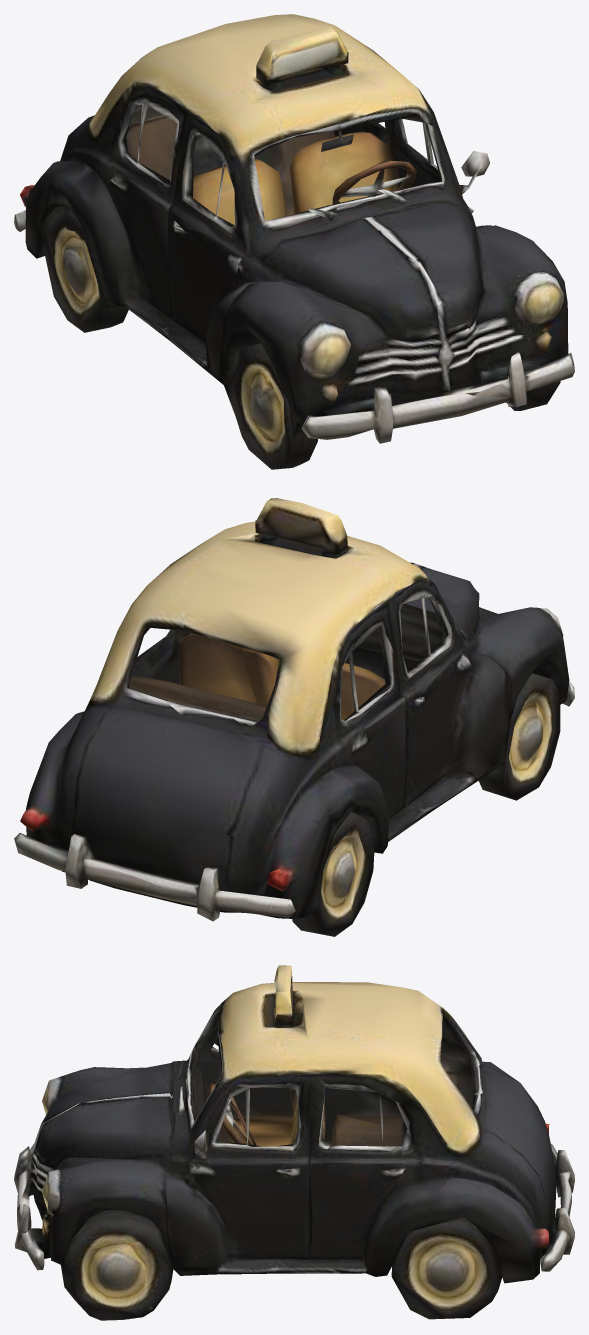
The picture shows the model from 3 angles, top to bottom: view 1: azimuth 30°, elevation 25°; view 2: azimuth 150°, elevation 25°; view 3: azimuth 270°, elevation 25°; orthographic projection. The views are drawn at different scales.
Visible parts, largest first — view 1: tripo_node_bc22fc9d-621a-4ebe-ac34-a5c48a251147; view 2: tripo_node_bc22fc9d-621a-4ebe-ac34-a5c48a251147; view 3: tripo_node_bc22fc9d-621a-4ebe-ac34-a5c48a251147.
Boxes of the visible parts, x1,y1,x2,y2 form: tripo_node_bc22fc9d-621a-4ebe-ac34-a5c48a251147: (14, 14, 574, 469); tripo_node_bc22fc9d-621a-4ebe-ac34-a5c48a251147: (14, 498, 574, 936); tripo_node_bc22fc9d-621a-4ebe-ac34-a5c48a251147: (14, 965, 574, 1320).
Bounding box in the file's own units: 0.5221 × 0.569 × 0.9996.
1 material, 1 textured.
